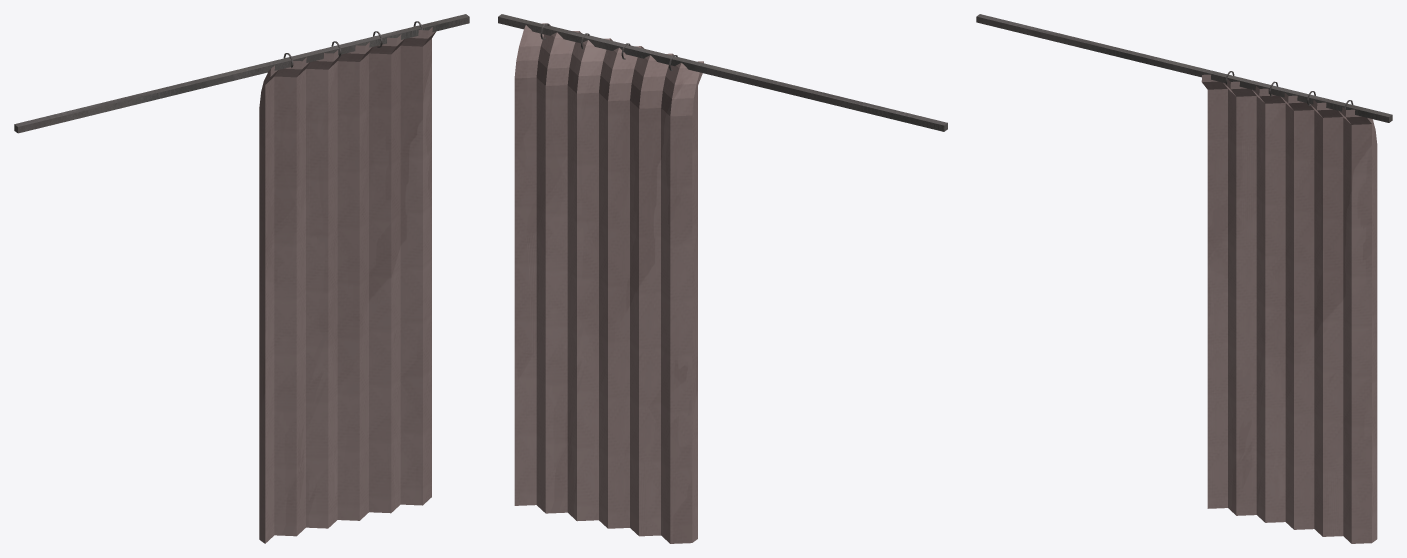
File: M-Curtain.fbx
3 renders of one model, left to right at view 1: azimuth 30°, elevation 25°; view 2: azimuth 150°, elevation 25°; view 3: azimuth 330°, elevation 25°, orthographic. The views are drawn at different scales.
Parts seen in each view (by area): view 1: Cube.002, Cube.003; view 2: Cube.002, Cube.003; view 3: Cube.002, Cube.003.
Boxes of the visible parts, x1=… form: Cube.002: x1=259, y1=27, x2=436, y2=543; Cube.003: x1=14, y1=14, x2=469, y2=133; Cube.002: x1=514, y1=23, x2=703, y2=543; Cube.003: x1=498, y1=14, x2=947, y2=131; Cube.002: x1=1201, y1=74, x2=1377, y2=543; Cube.003: x1=976, y1=14, x2=1392, y2=122.
Bounding box in the file's own units: 180 × 12.47 × 184.
Materials: 3 (3 with a texture image).
